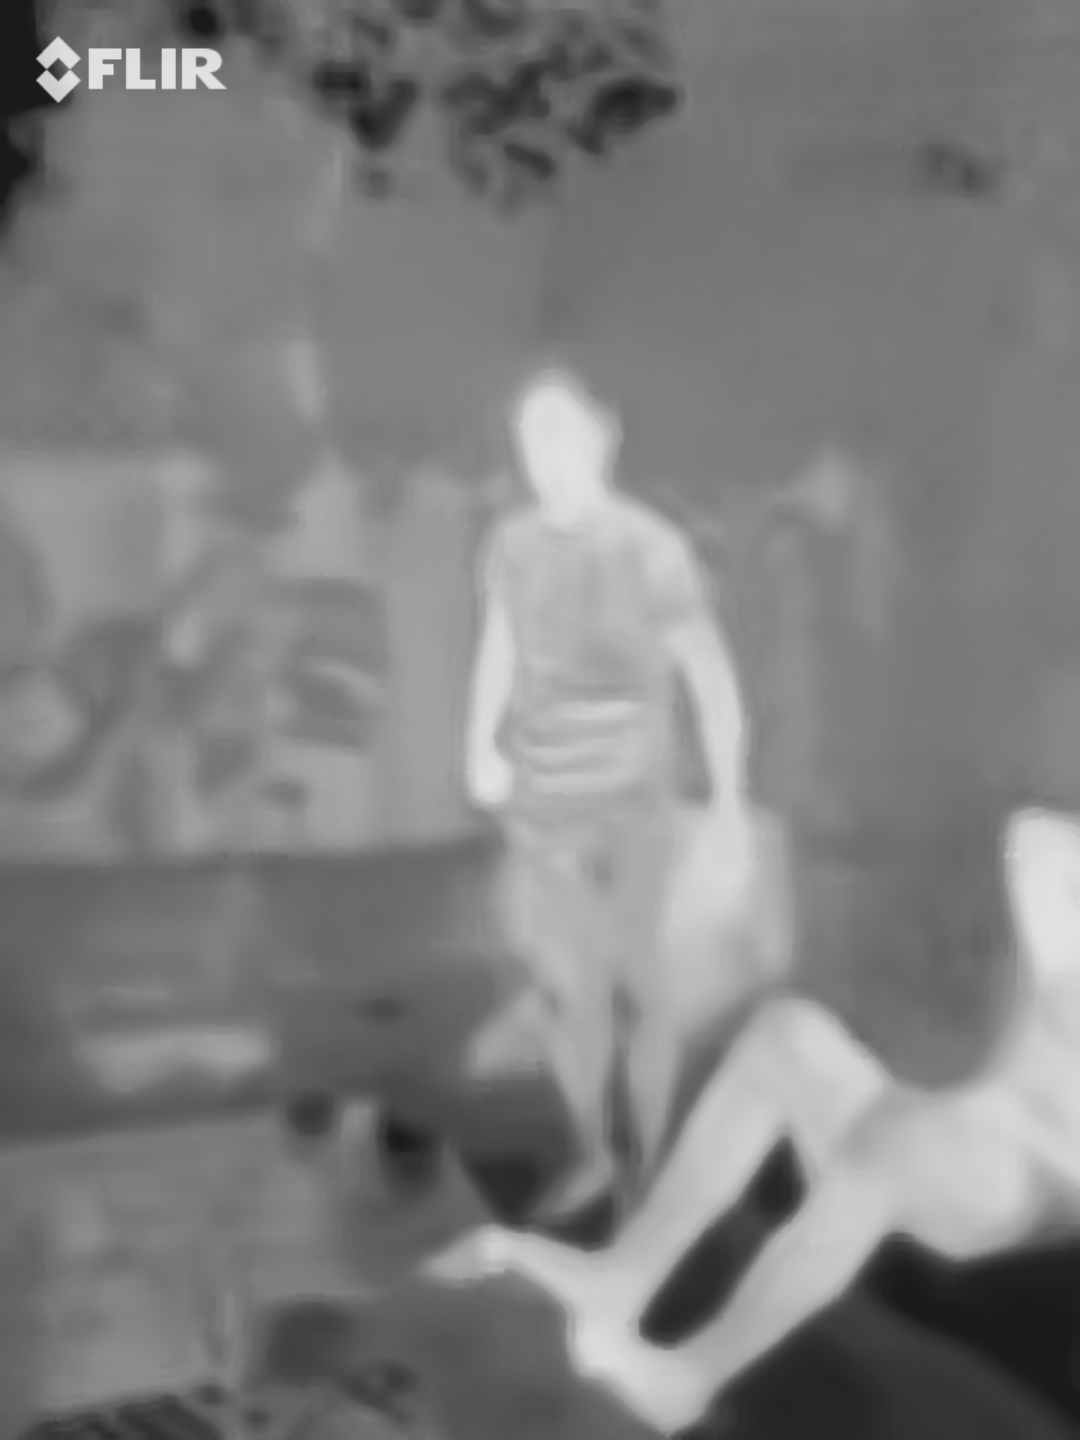head: (504, 348, 624, 510)
